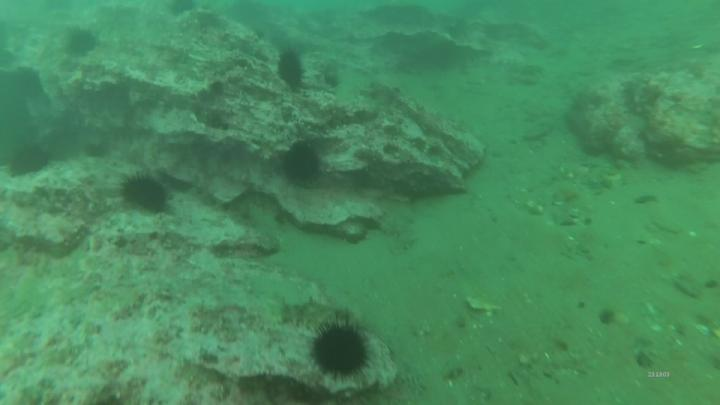echinus: (302, 310, 380, 387), (117, 168, 173, 219), (277, 138, 329, 189), (275, 43, 312, 96), (9, 141, 53, 182)
holothurian: (276, 297, 342, 330)
